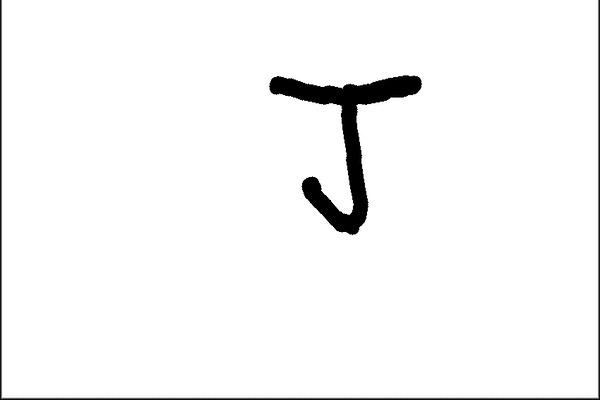J: (262, 62, 427, 242)
